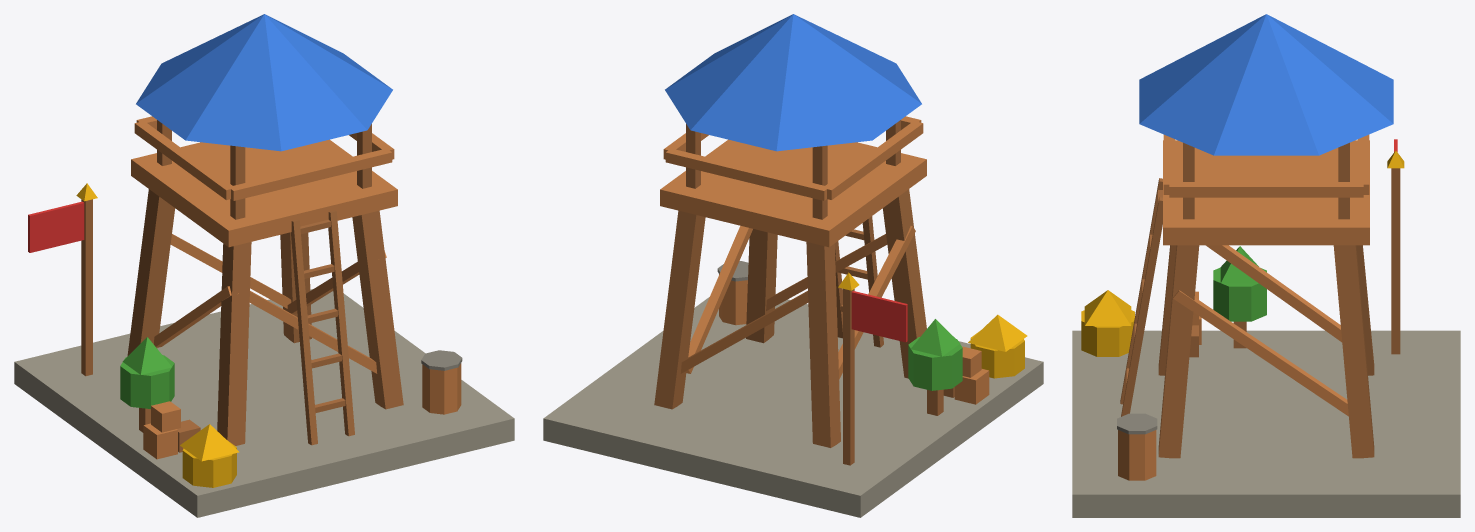
The model's file is defense_tower_t1_v2.glb.
3 renders of one model, left to right at view 1: azimuth 30°, elevation 25°; view 2: azimuth 150°, elevation 25°; view 3: azimuth 270°, elevation 25°, orthographic. The views are drawn at different scales.
Visible parts, largest first — view 1: defense_tower_t1_v2; view 2: defense_tower_t1_v2; view 3: defense_tower_t1_v2.
Part boxes in pixels (bbox=[...]): defense_tower_t1_v2: bbox=[14, 14, 514, 517]; defense_tower_t1_v2: bbox=[543, 14, 1043, 517]; defense_tower_t1_v2: bbox=[1072, 14, 1460, 517].
Bounding box in the file's own units: 0.63 × 0.72 × 0.6.
Materials: 1 (1 with a texture image).
